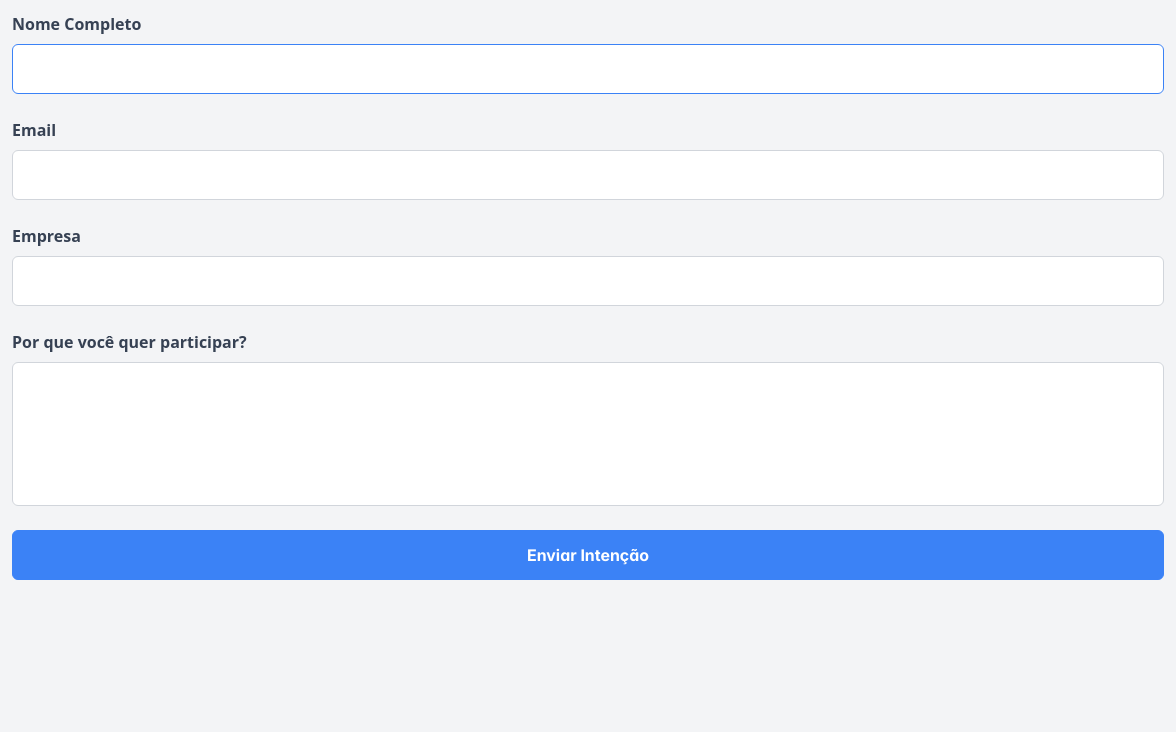
Test case: ApplicationForm › mostra a mensagem de erro se a API falhar
Note: Preenche o formulário
Type "Teste Erro" into the field labelled "Nome Completo".
click(588, 69); type("Teste Erro")  # box top-left (12, 44), bottom-right (1164, 94)
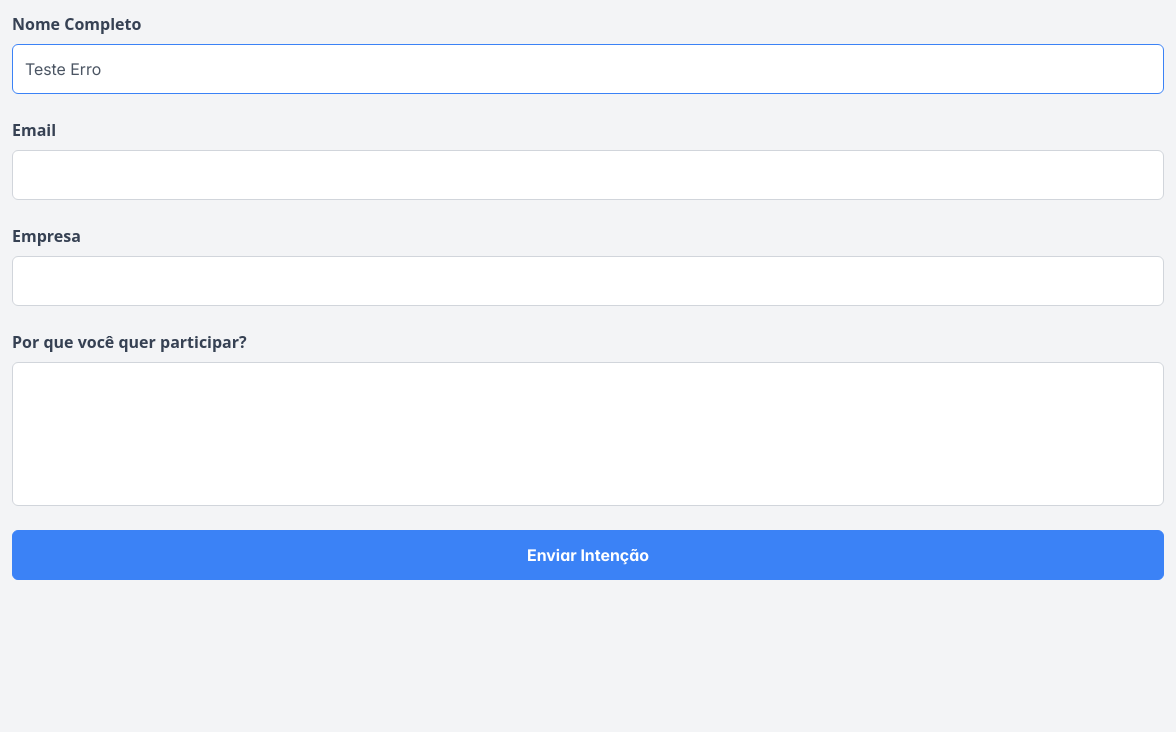
Type "erro@empresa.com" into the field labelled "Email".
click(588, 175); type("erro@empresa.com")  # box top-left (12, 150), bottom-right (1164, 200)
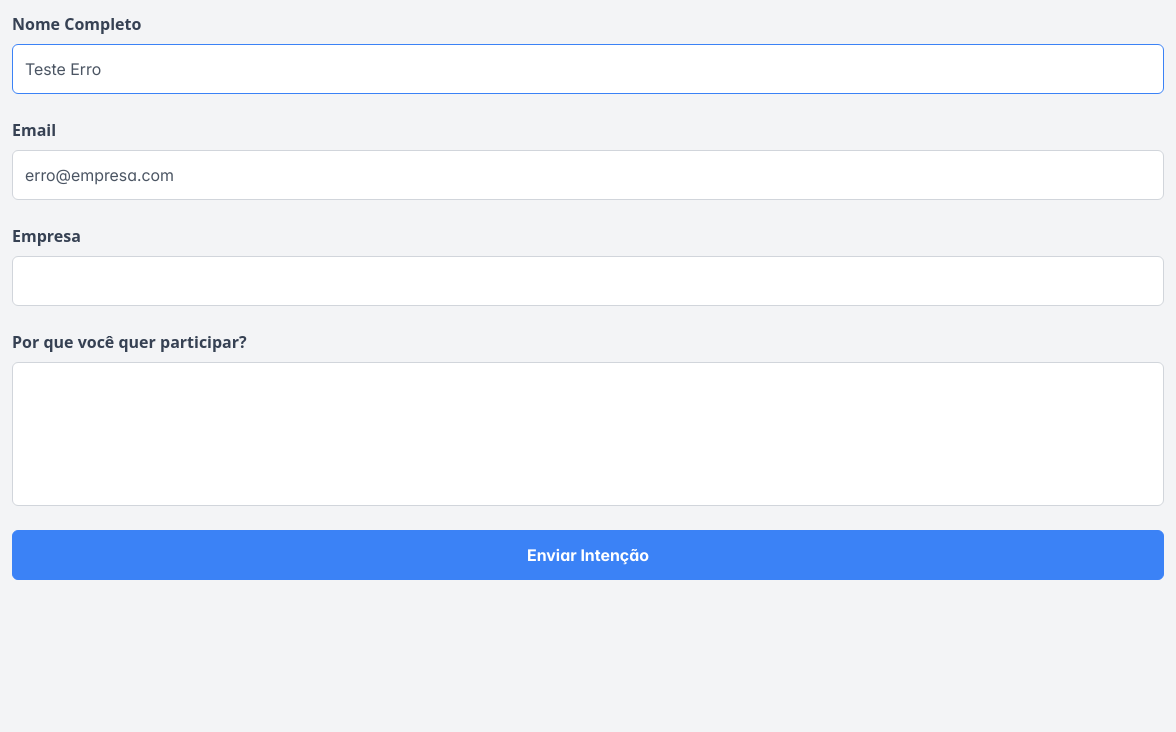
Type "Erro Corp" into the field labelled "Empresa".
click(588, 281); type("Erro Corp")  # box top-left (12, 256), bottom-right (1164, 306)
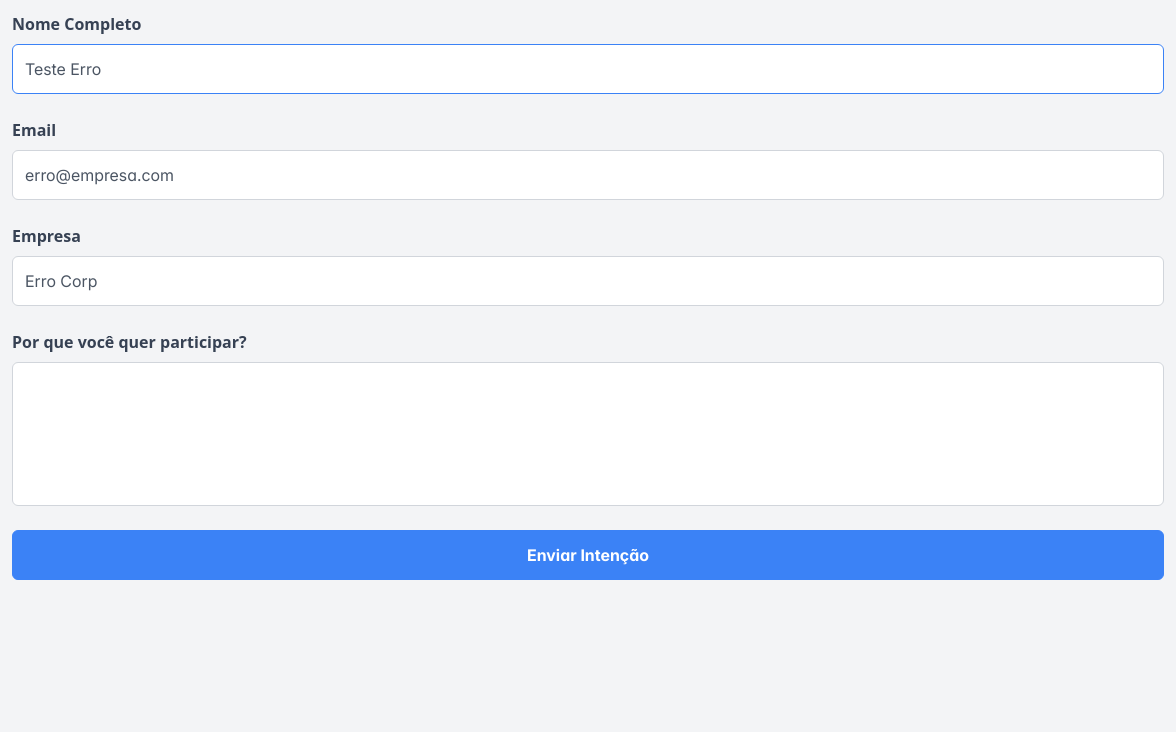
Type "Quero participar do teste de erro" into the text box labelled "Por que você quer participar?".
click(588, 434); type("Quero participar do teste de erro")  # box top-left (12, 362), bottom-right (1164, 506)
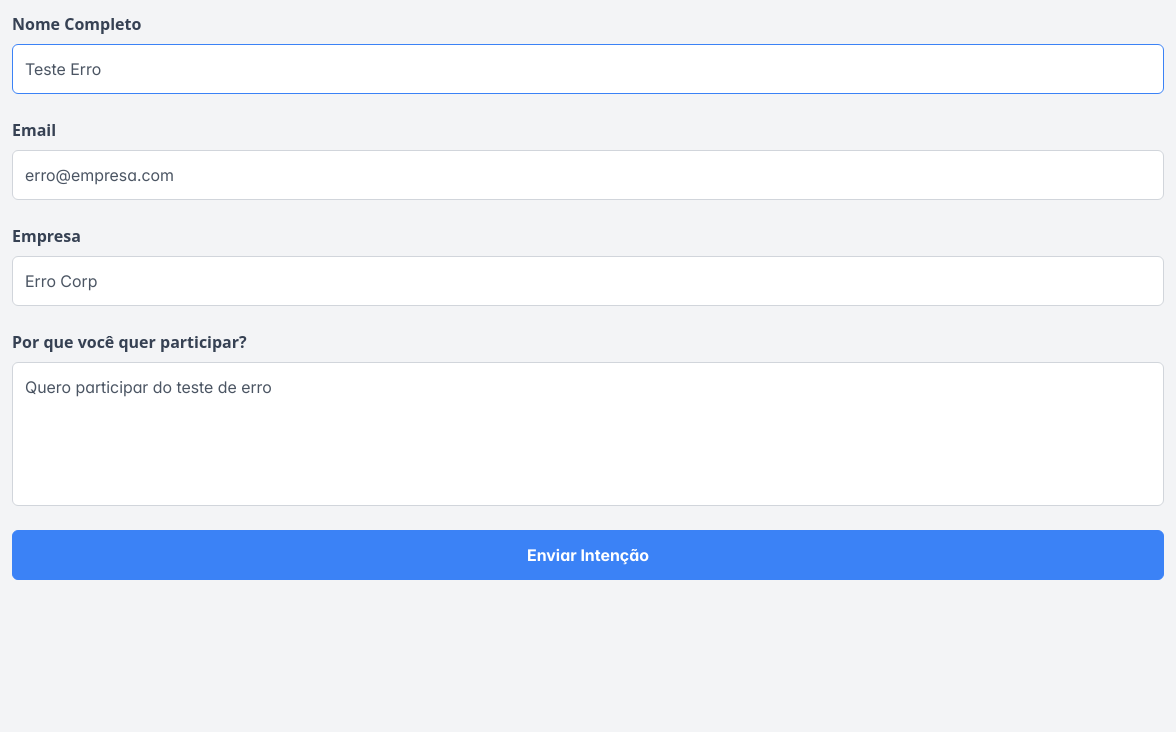
Note: CORREÇÃO: Dispare o 'submit' no formulário
Submit the form with test id "application-form"
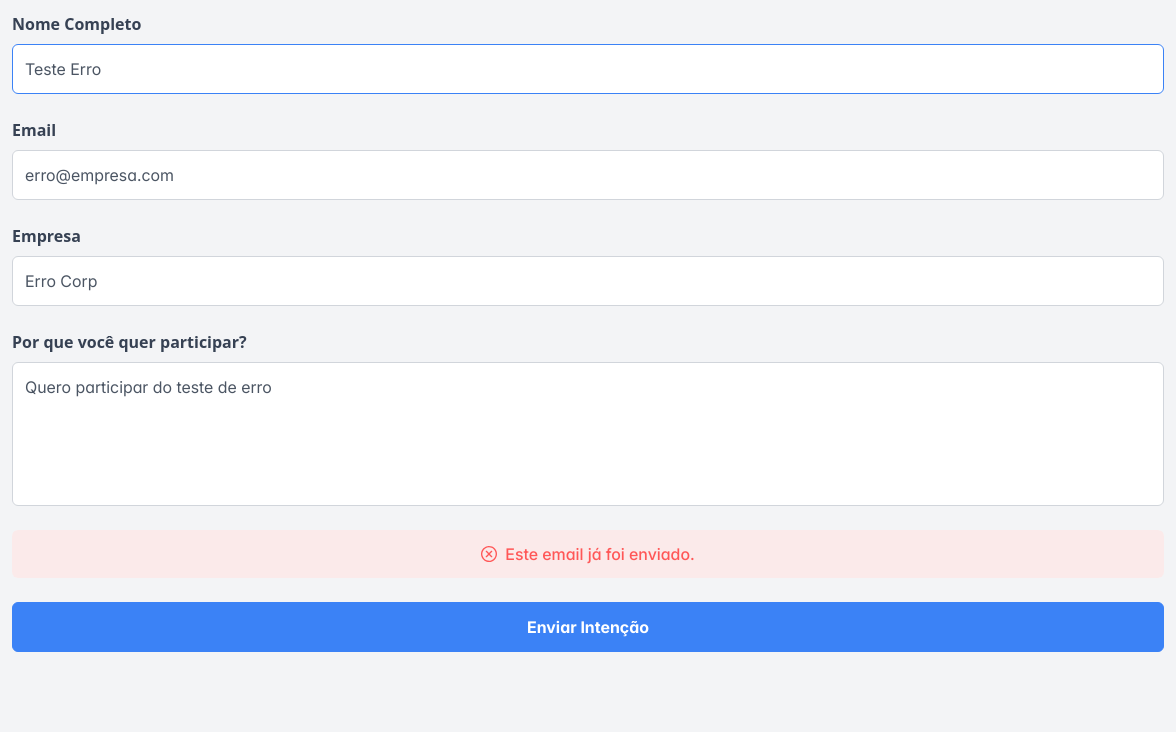
Check: the text "Este email já foi enviado." is shown, box top-left (505, 542), bottom-right (695, 566)
